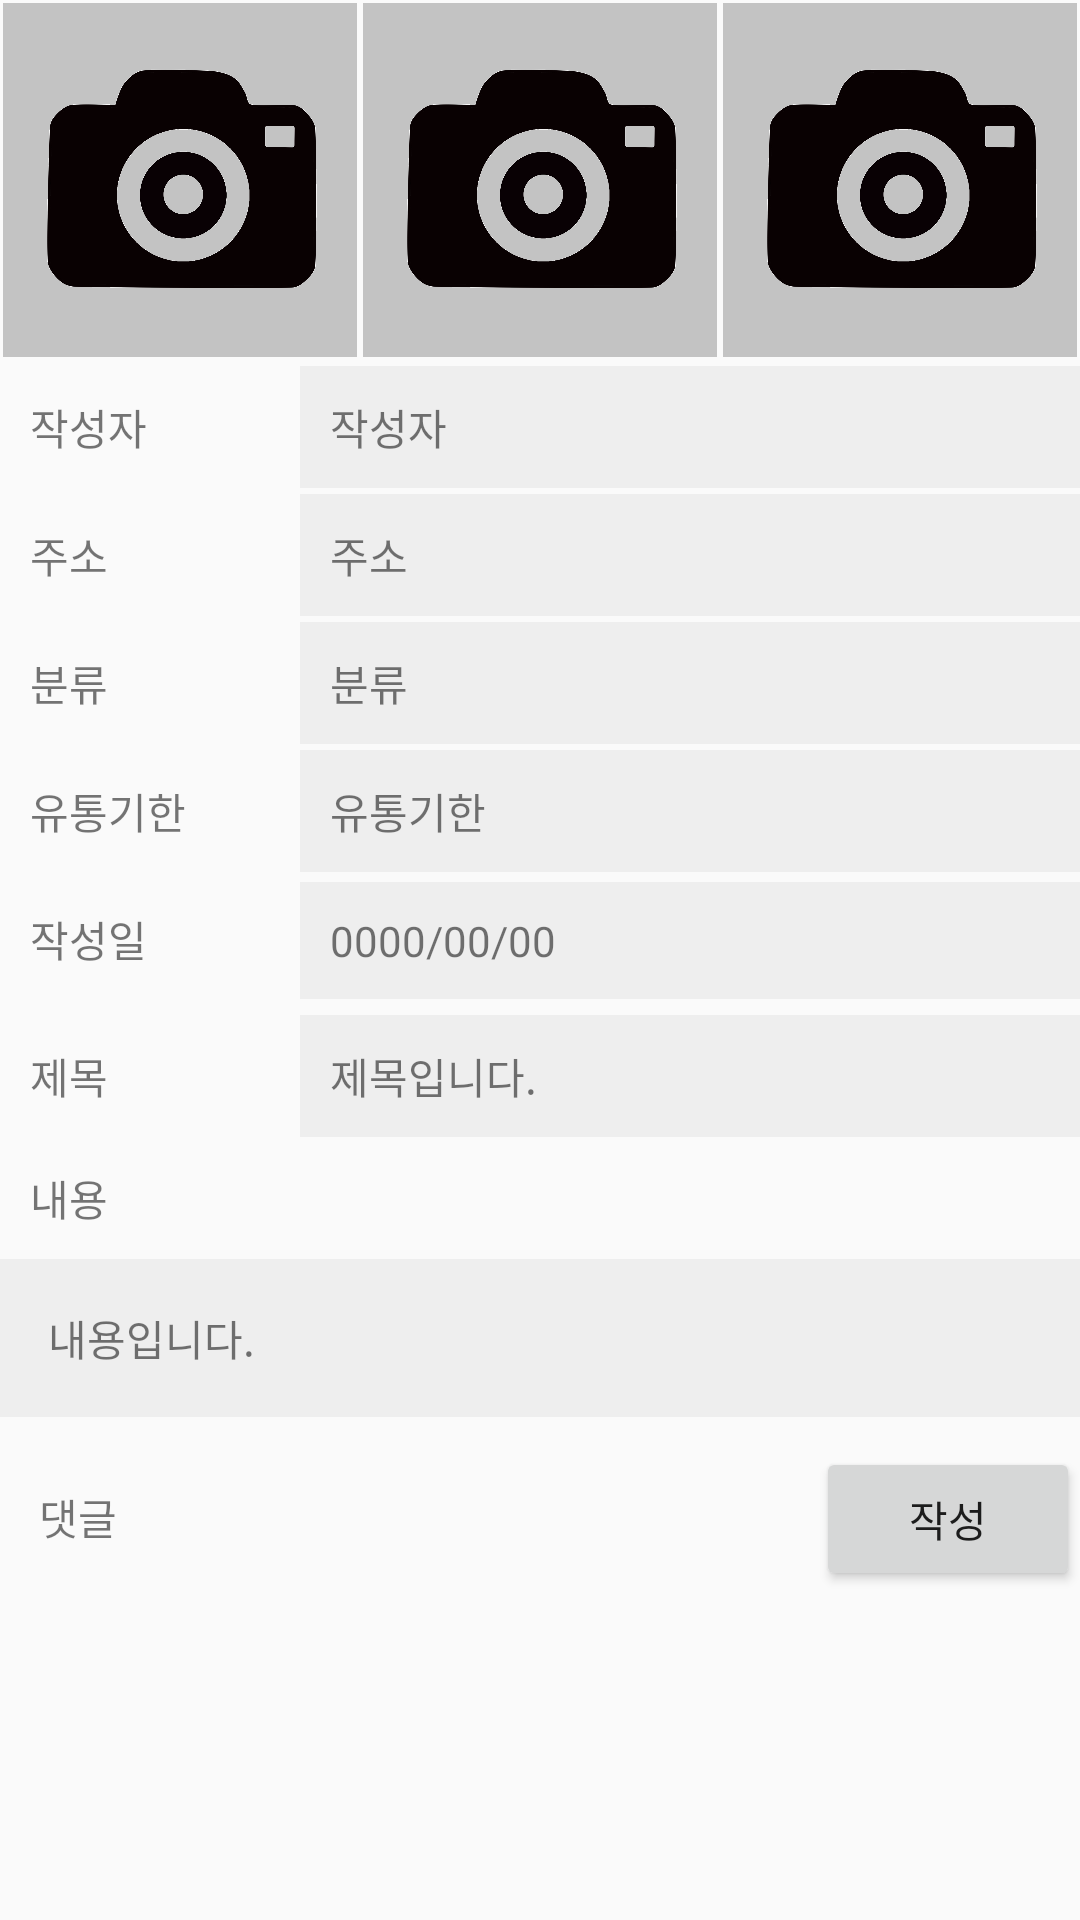

Icon bounding boxes for this 1080×1920 phone screenshot, format rect(x1, y1, x2, y2):
emptyimage: rect(3, 3, 357, 357), rect(363, 3, 717, 357), rect(723, 3, 1077, 357)
